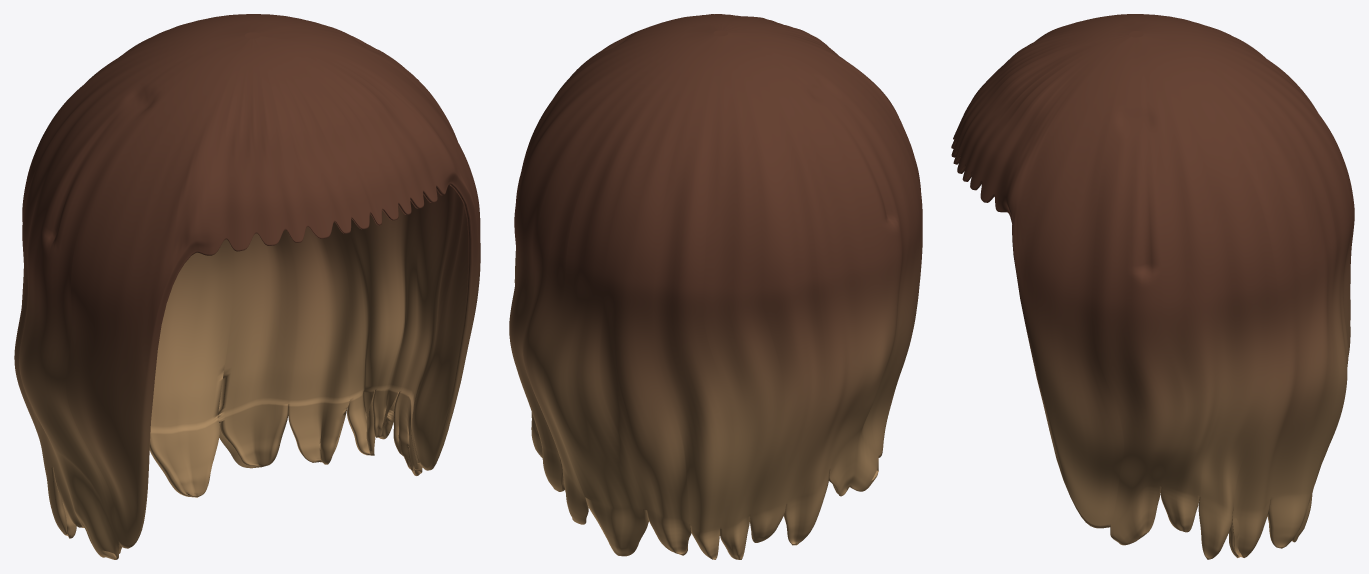
Rendered from long-ears-ombre.glb.
3 renders of one model, left to right at view 1: azimuth 30°, elevation 25°; view 2: azimuth 150°, elevation 25°; view 3: azimuth 270°, elevation 25°, orthographic. The views are drawn at different scales.
Visible parts, largest first — view 1: Hair / rounded long fringe; view 2: Hair / rounded long fringe; view 3: Hair / rounded long fringe.
Boxes of the visible parts, left/top/right/bottom form: Hair / rounded long fringe: left=14, top=14, right=480, bottom=559; Hair / rounded long fringe: left=509, top=14, right=922, bottom=559; Hair / rounded long fringe: left=951, top=14, right=1354, bottom=559.
Bounding box in the file's own units: 0.8536 × 1.06 × 0.7801.
